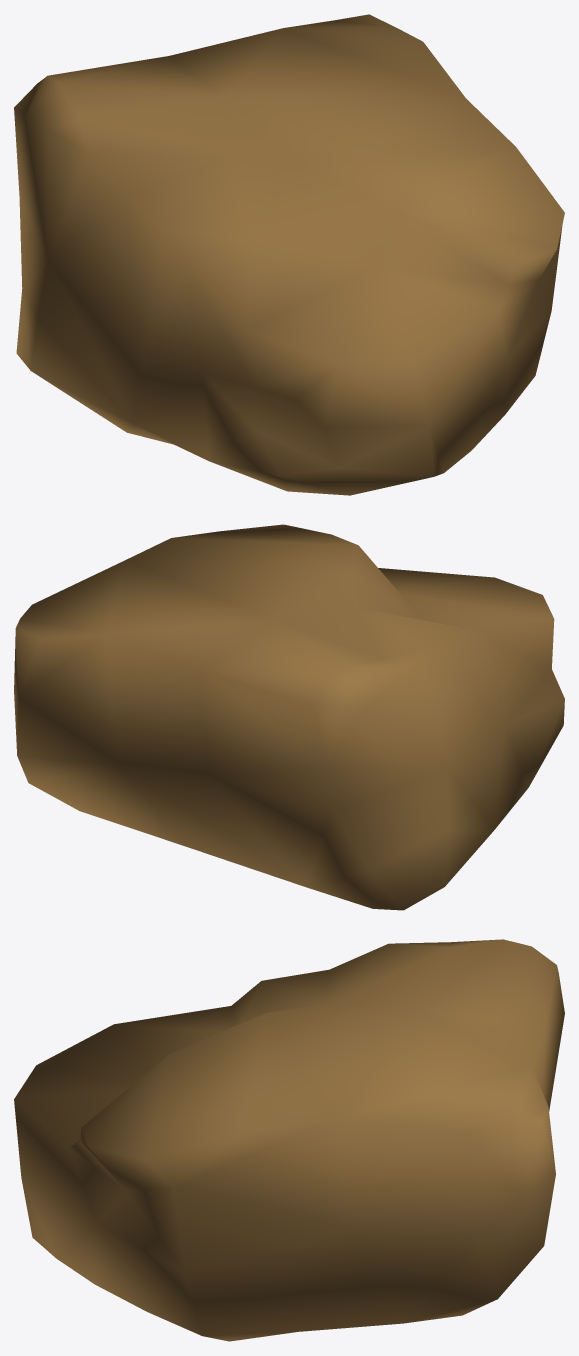
File: MSH_Rock_Single_02.FBX
3 renders of one model, top to bottom at view 1: azimuth 30°, elevation 25°; view 2: azimuth 150°, elevation 25°; view 3: azimuth 270°, elevation 25°, orthographic. The views are drawn at different scales.
Visible parts, largest first — view 1: MESH_LOD0; view 2: MESH_LOD0; view 3: MESH_LOD0.
Boxes of the visible parts, x1,y1,x2,y2 form: MESH_LOD0: [14, 14, 564, 495]; MESH_LOD0: [14, 524, 564, 910]; MESH_LOD0: [14, 939, 564, 1341].
Size of what is drawn, in the model's own units: 25.64 by 17.19 by 30.79.
